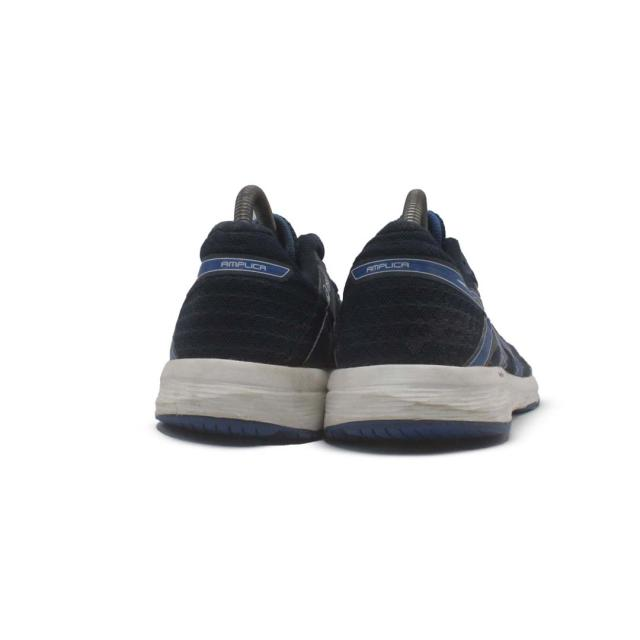heel: (166, 224, 330, 366), (331, 221, 481, 367)
midsole: (328, 367, 538, 441), (161, 359, 342, 442)
